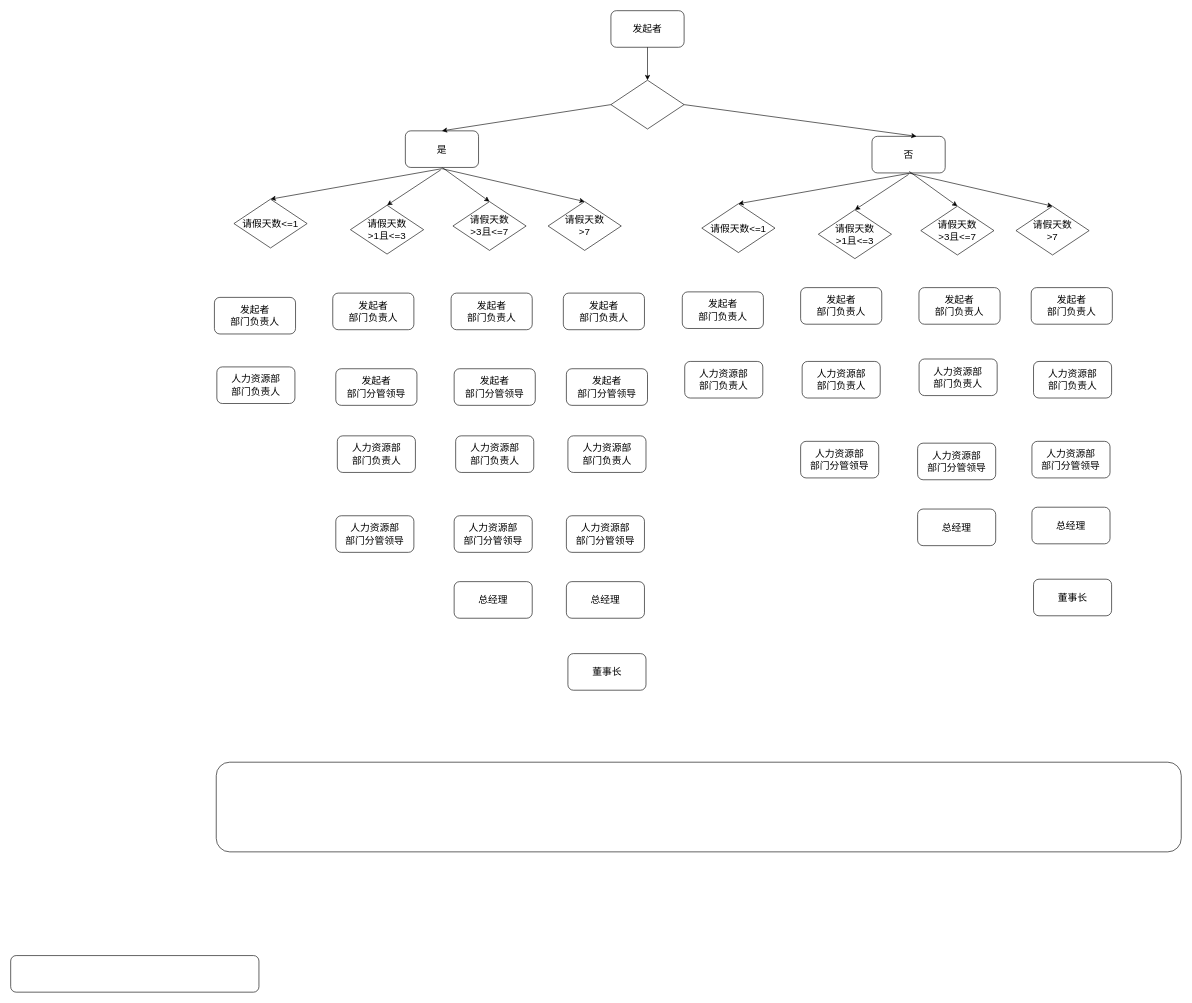
Image size: 1192x1003. Some labels were removed from this diagram. The box of each missing label's shape, as (x1, y1, x2, y2) in pixels:
author:倪红波: (10, 955, 259, 992)
人力资源部人事专员: (216, 762, 1181, 852)
是否总部员工: (610, 80, 684, 129)
